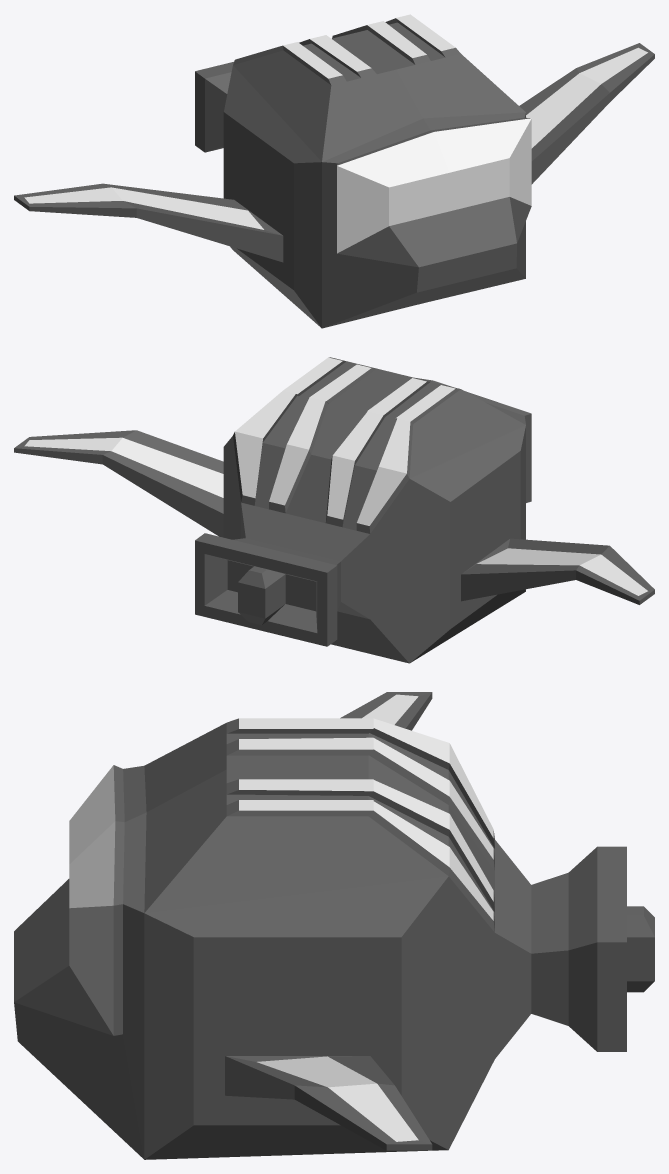
Rendered from scape-pod.fbx.
3 renders of one model, top to bottom at view 1: azimuth 30°, elevation 25°; view 2: azimuth 150°, elevation 25°; view 3: azimuth 270°, elevation 25°, orthographic. The views are drawn at different scales.
Visible parts, largest first — view 1: Cube; view 2: Cube; view 3: Cube.
Boxes of the visible parts, left/top/right/bottom form: Cube: left=14, top=14, right=654, bottom=328; Cube: left=14, top=357, right=654, bottom=663; Cube: left=14, top=692, right=654, bottom=1159.
Size of the model in its own units: 708 by 235 by 424.
